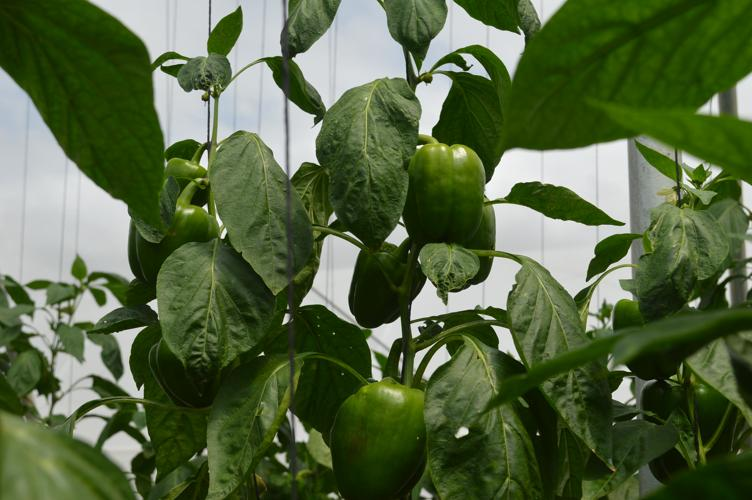BellPepper: (328, 377, 429, 497), (629, 380, 732, 480), (401, 143, 484, 247), (342, 247, 425, 335), (125, 201, 215, 280), (441, 195, 495, 288), (613, 298, 676, 376), (149, 344, 216, 405), (164, 160, 208, 204)
